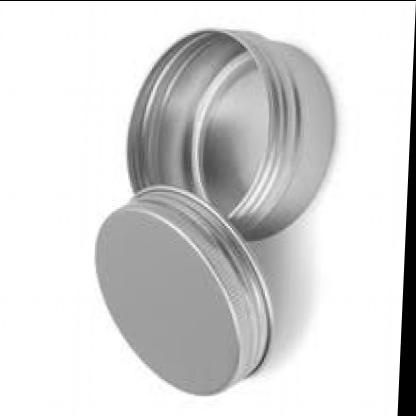trash: (96, 30, 334, 394), (128, 30, 334, 239), (96, 186, 271, 394)
